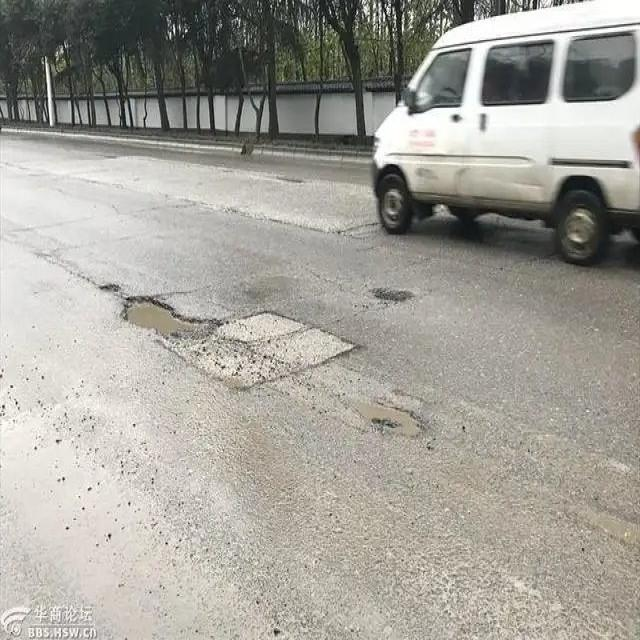pothole: (95, 280, 429, 440), (370, 284, 415, 307)
